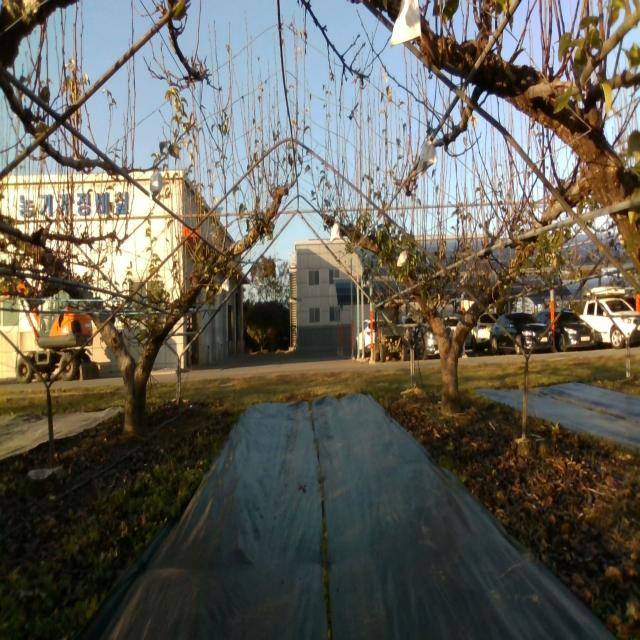pearbags: (390, 0, 422, 48), (416, 141, 437, 174), (149, 166, 163, 200), (330, 222, 341, 243)
